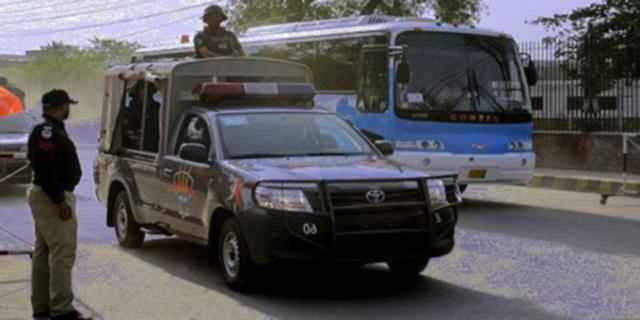police: (100, 51, 461, 283)
